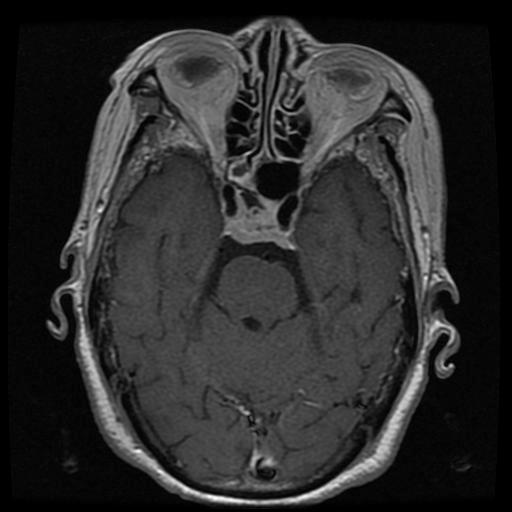Tumour-Pituitary: (216, 191, 307, 247)
